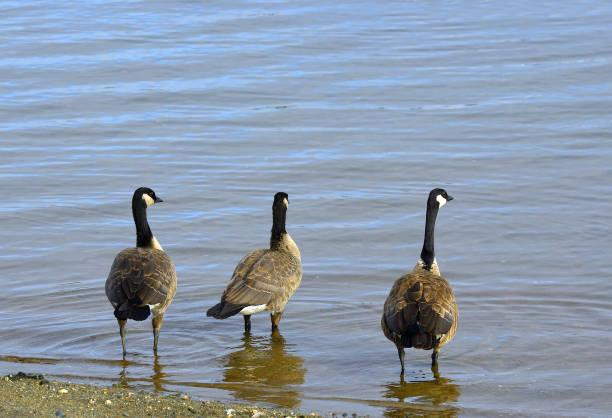Canadian-Goose: (376, 186, 465, 380), (211, 191, 306, 336), (108, 183, 178, 354)
